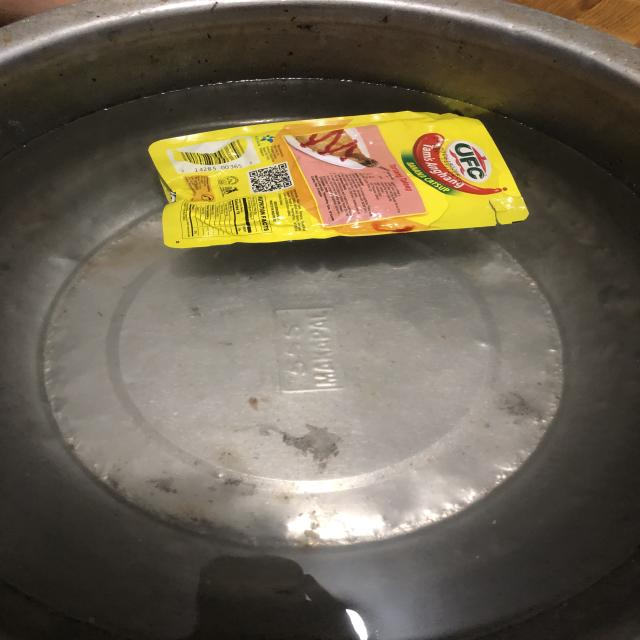Plastic Pouch: (119, 86, 576, 271)
